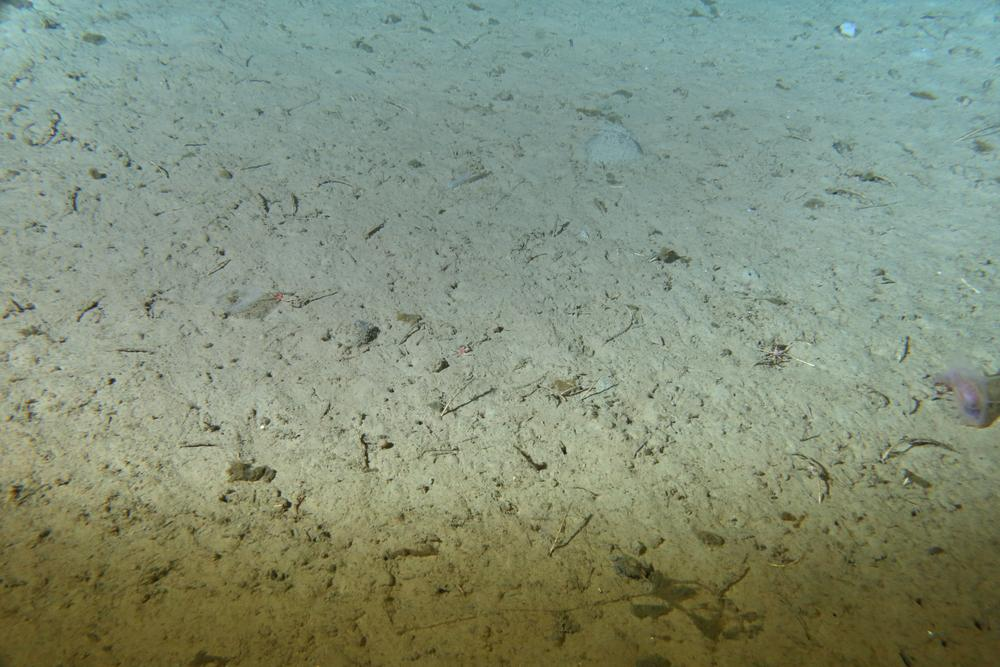Peniagone vitrea: (932, 359, 1000, 431)
